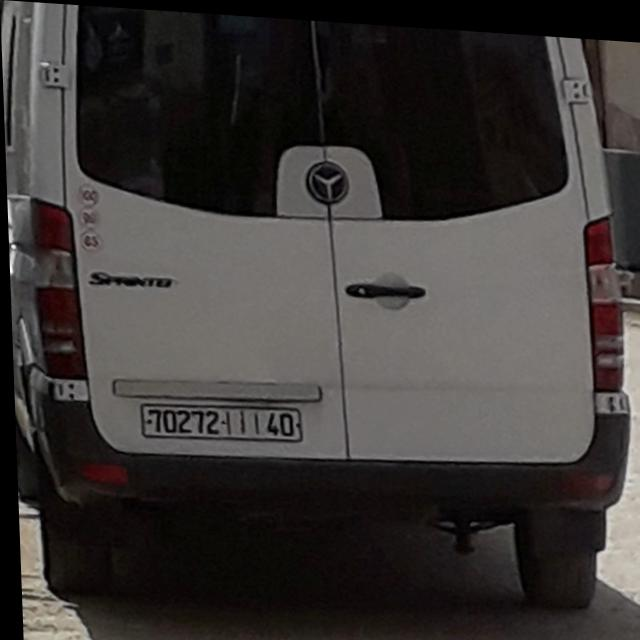License-Plate: (138, 402, 299, 437)
